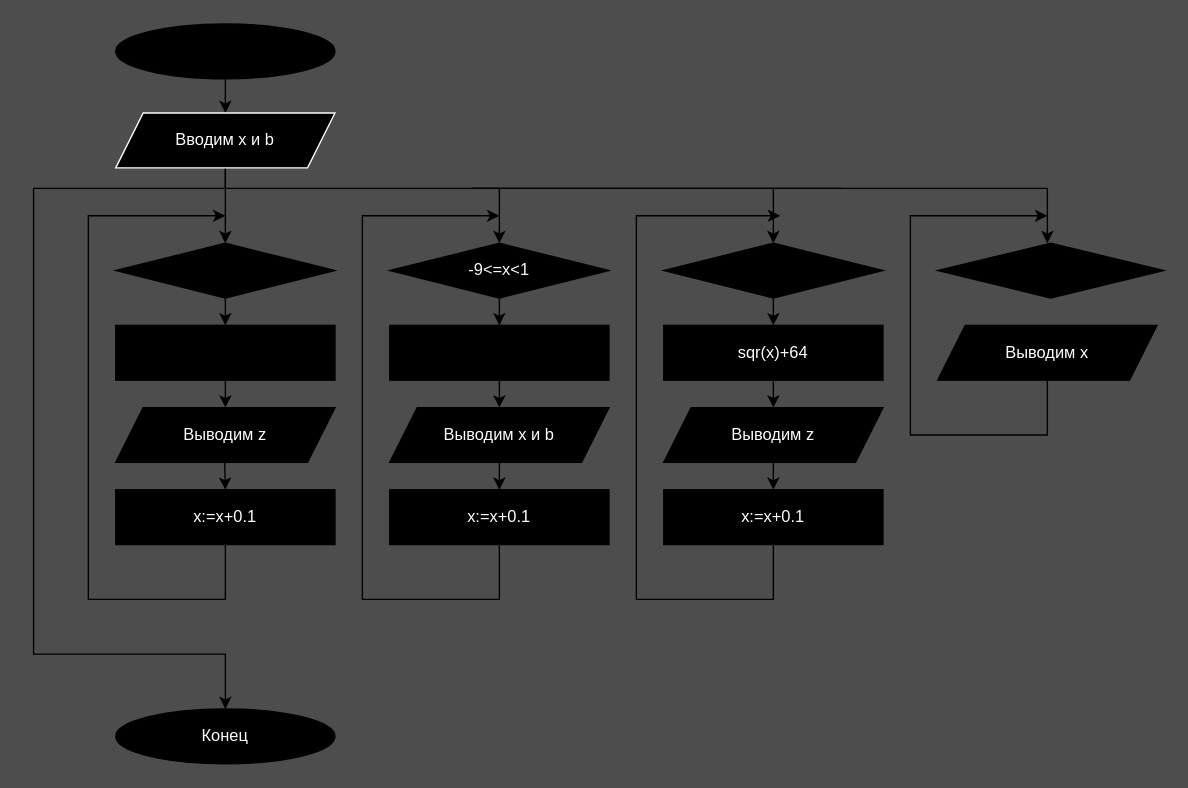
Some shapes in this 1188 by 788 pixel diagram are drawn without their labels. Each missing label, with the centre of its shape:
"1<=x<6" belongs at [772,270].
"6<=x" belongs at [1050,270].
"80*sin(x)+(exp*ln(e))" belongs at [498,352].
"x<-9" belongs at [224,270].
"z:=51*ln(x)+x/7" belongs at [224,352].
"Начало" belongs at [224,51].
